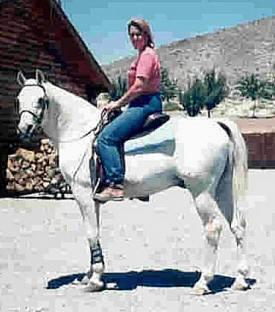person: (93, 18, 164, 201)
